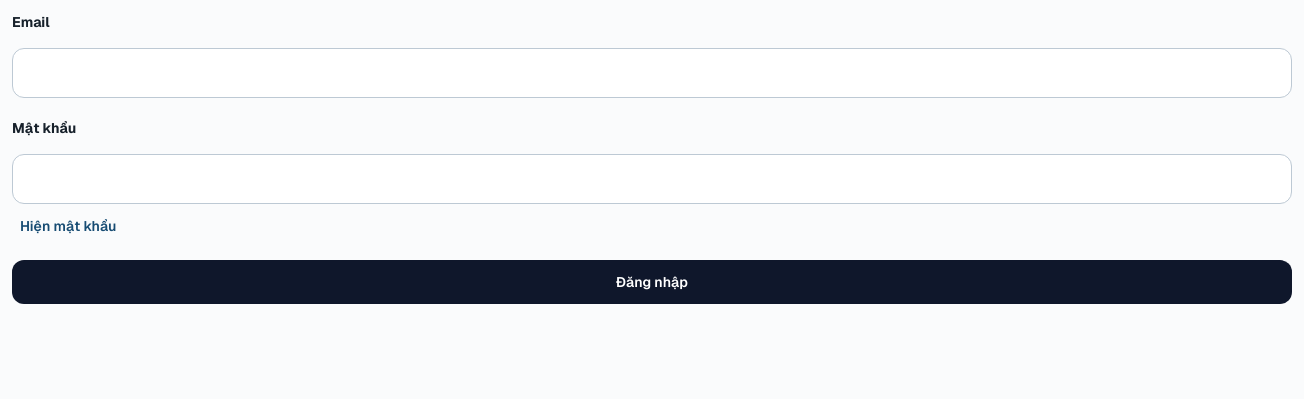
Scenario: staff admin authentication › shows a friendly credentials error
Type "admin@homelab.local" into the field labelled "Email" at (652,73), box 12,48 -> 1292,98
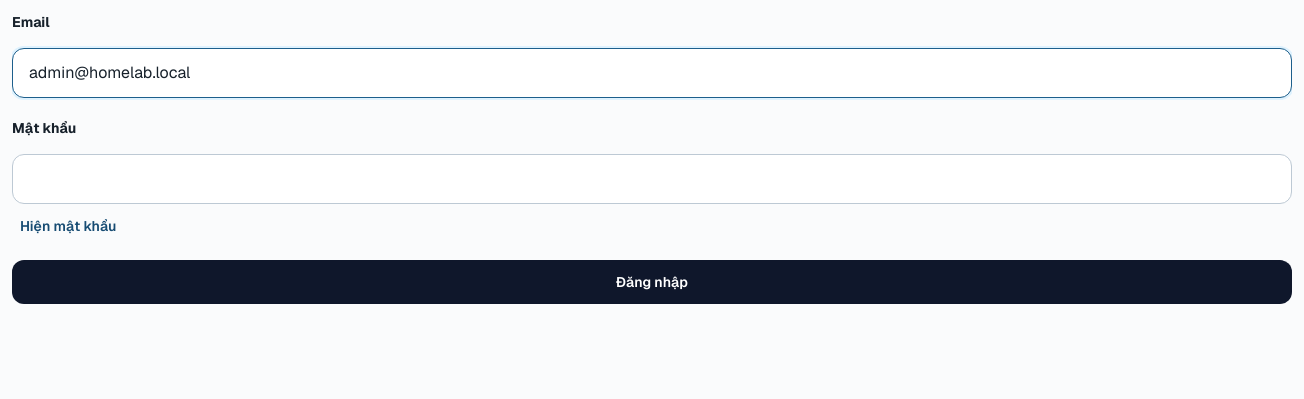
Type "Synthetic1234" into the password field labelled "Mật khẩu" at (652,179), box 12,154 -> 1292,204
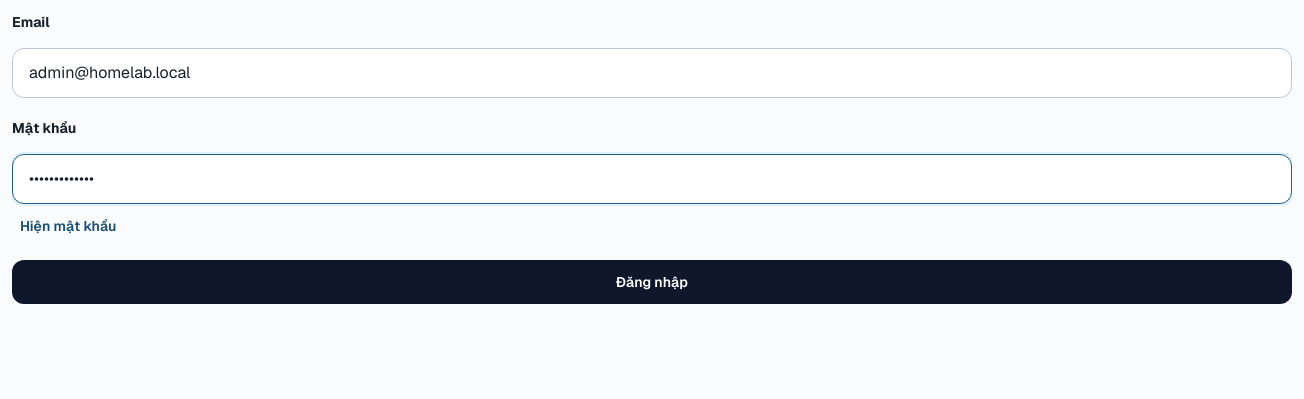
Click the button "Đăng nhập" at (652,282), box 12,260 -> 1292,304
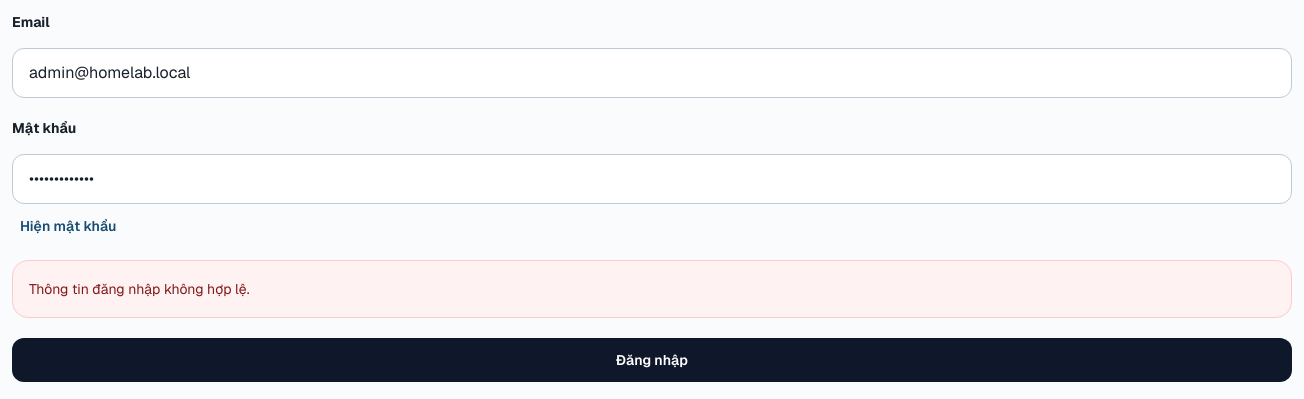
Result: the message reads "Thông tin đăng nhập không hợp lệ." at 29,280 -> 250,298
